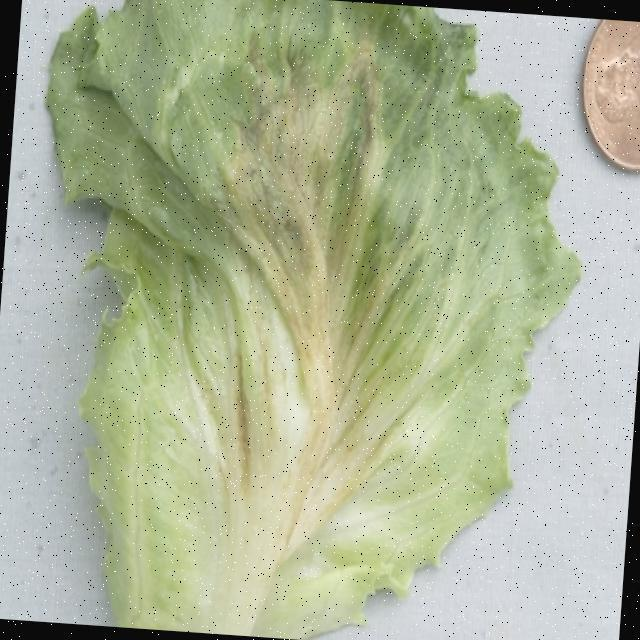Downy_mildew_on_lettuce: (154, 189, 419, 554)
